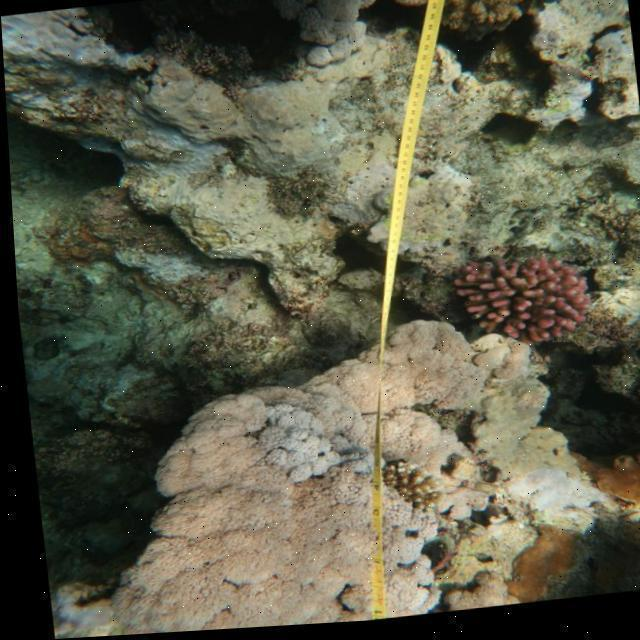Healthy Coral: (445, 251, 607, 361)
